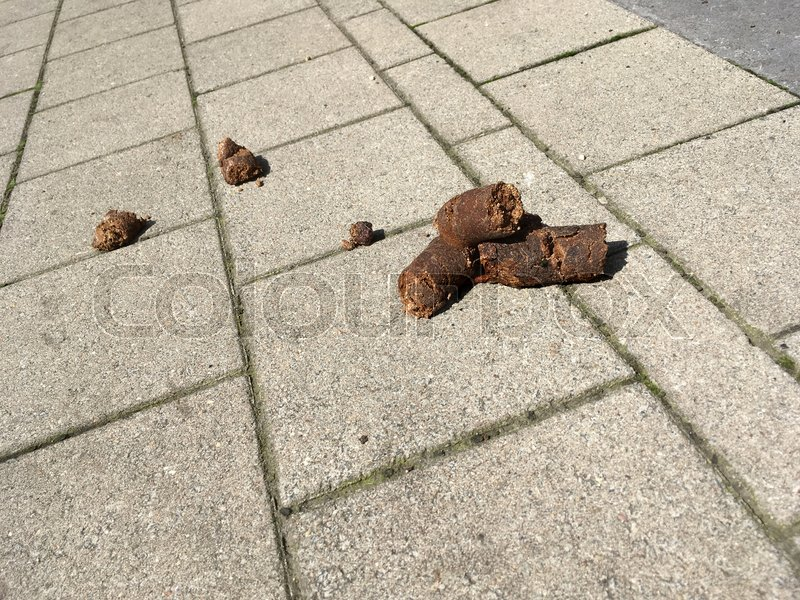Dog: (406, 187, 609, 305)
